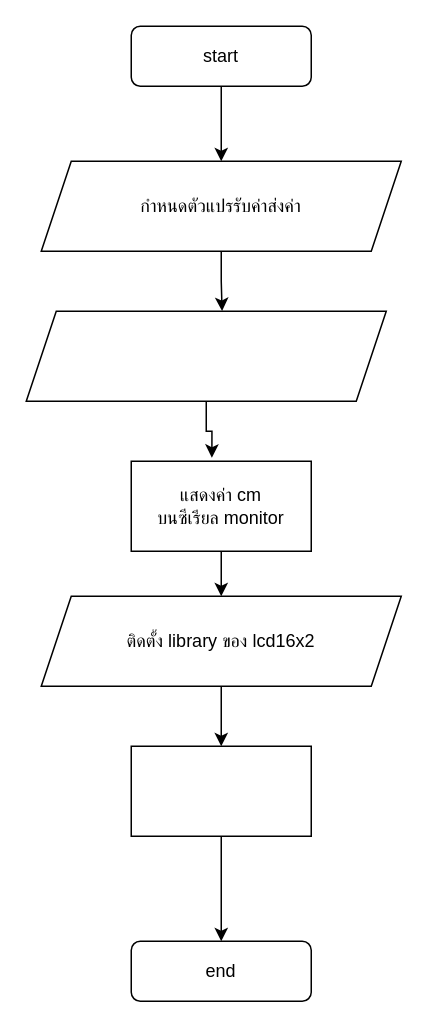
Image size: 428x1028. Some labels were removed from this diagram. Each missing label, with the box of its shape:
นำค่า duration มาคูณกับ 173 แล้วหารด้วย 10000 เก็บไว้ในตัวแปร cm: (25, 310, 386, 401)
แสดงค่า cm บนlcd ผ่านคำสั่ง lcd.print(cm): (130, 745, 311, 836)
